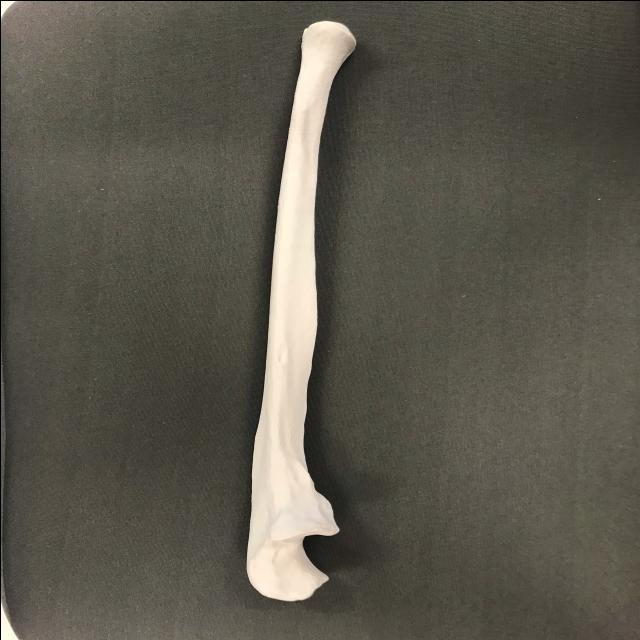bone: (235, 12, 378, 606)
